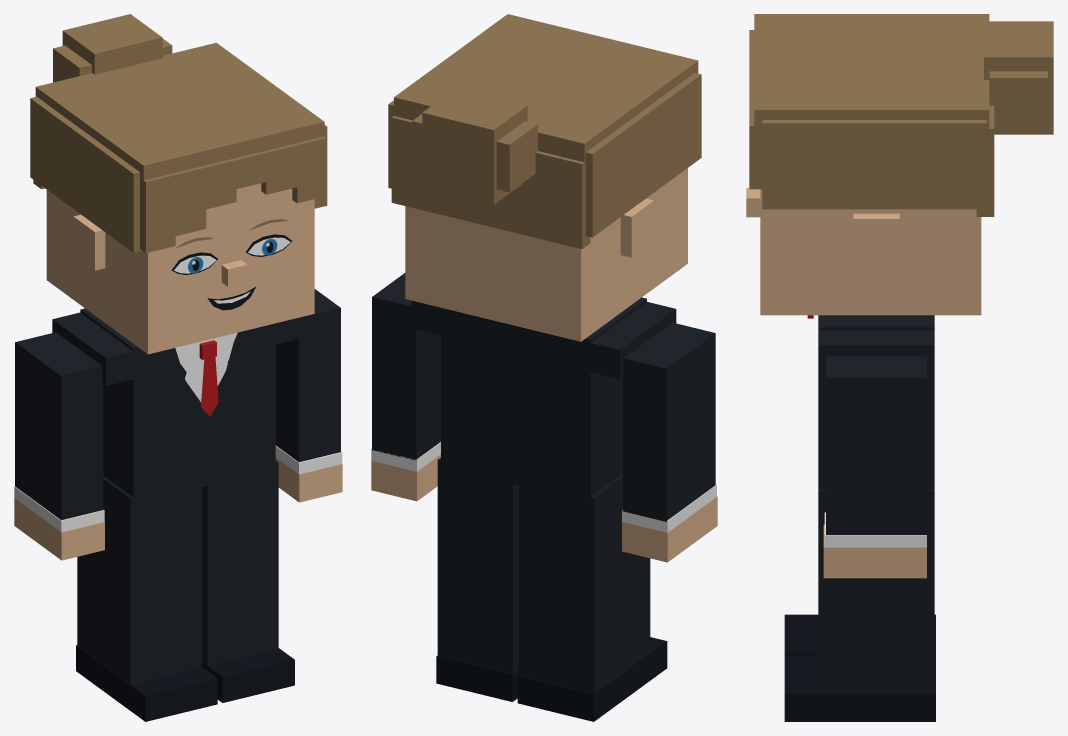
Rendered from male_bun.glb.
3 views of the same model, side by side, from view 1: azimuth 30°, elevation 25°; view 2: azimuth 150°, elevation 25°; view 3: azimuth 270°, elevation 25° (orthographic). The views are drawn at different scales.
Parts seen in each view (by area): view 1: char_hair_visual, char_torso_visual, char_head_visual, char_leg_negx_visual, char_arm_negx_visual, char_leg_posx_visual, char_arm_posx_visual, char_hand_negx_visual, char_hand_posx_visual, char_eye_posx_visual, char_eye_negx_visual; view 2: char_hair_visual, char_torso_visual, char_head_visual, char_leg_negx_visual, char_arm_negx_visual, char_leg_posx_visual, char_arm_posx_visual, char_hand_negx_visual, char_hand_posx_visual; view 3: char_hair_visual, char_head_visual, char_arm_posx_visual, char_leg_posx_visual, char_torso_visual, char_hand_posx_visual, char_leg_negx_visual.
Part boxes in pixels (x1,y1,x2,y2): char_hair_visual: (30, 14, 327, 253); char_torso_visual: (52, 308, 303, 574); char_head_visual: (46, 183, 314, 354); char_leg_negx_visual: (76, 551, 217, 721); char_arm_negx_visual: (14, 332, 104, 532); char_leg_posx_visual: (201, 534, 294, 702); char_arm_posx_visual: (275, 289, 342, 474); char_hand_negx_visual: (14, 498, 104, 560); char_hand_posx_visual: (275, 457, 342, 502); char_eye_posx_visual: (245, 234, 291, 256); char_eye_negx_visual: (171, 252, 217, 274); char_hair_visual: (388, 14, 701, 248); char_torso_visual: (411, 297, 676, 572); char_head_visual: (405, 168, 687, 341); char_leg_negx_visual: (517, 552, 667, 721); char_arm_negx_visual: (622, 322, 716, 532); char_leg_posx_visual: (436, 535, 518, 701); char_arm_posx_visual: (371, 273, 440, 471); char_hand_negx_visual: (622, 496, 717, 562); char_hand_posx_visual: (371, 454, 440, 501); char_hair_visual: (749, 14, 1053, 216); char_head_visual: (746, 188, 981, 315); char_arm_posx_visual: (824, 356, 926, 547); char_leg_posx_visual: (784, 568, 935, 721); char_torso_visual: (807, 315, 934, 568); char_hand_posx_visual: (823, 524, 926, 578); char_leg_negx_visual: (784, 614, 935, 655).
Bounding box in the file's own units: 0.91 × 1.83 × 0.793.
